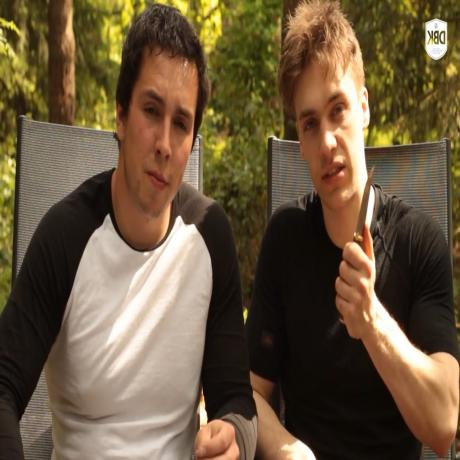1: (0, 3, 261, 460), (244, 0, 460, 460)
weapon: (352, 163, 376, 246)
